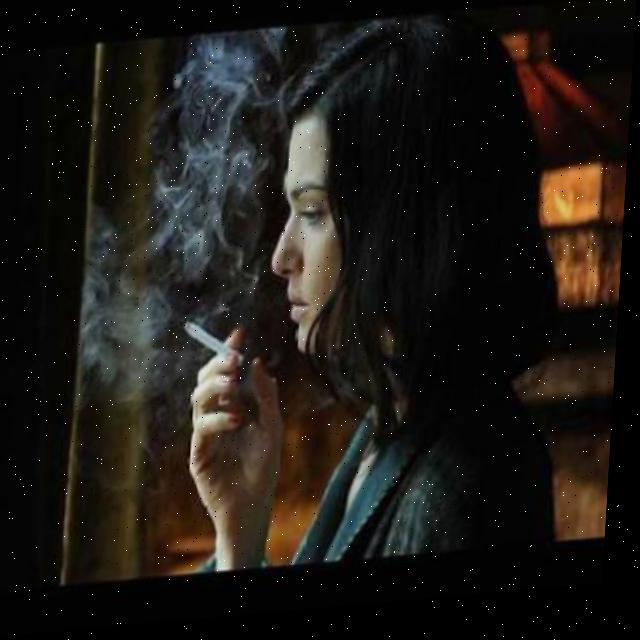cigarette: (186, 317, 254, 374)
